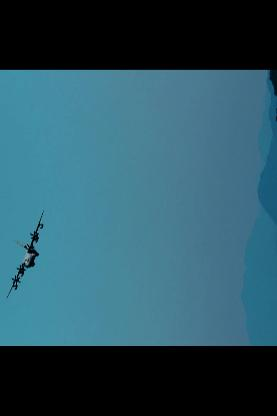Be200: (4, 211, 41, 300)
